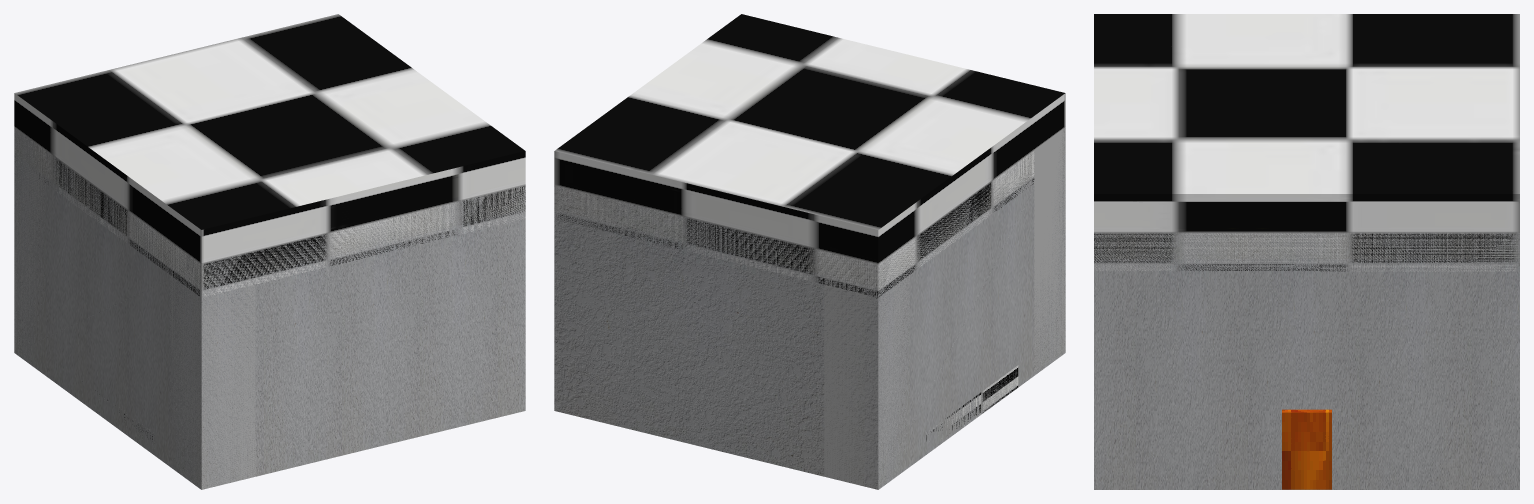
File: bomb-omb.obj
3 views of the same model, side by side, from view 1: azimuth 30°, elevation 25°; view 2: azimuth 150°, elevation 25°; view 3: azimuth 270°, elevation 25° (orthographic). The views are drawn at different scales.
Parts seen in each view (by area): view 1: Wall, Ceil, Marble_Column_Left, Marble_Column_Right; view 2: Wall, Ceil, Marble_Column_Right, Marble_Column_Left, Stage; view 3: Wall, Ceil, Door.
Part boxes in pixels (left/top/right/bottom): Wall: left=14, top=127, right=525, bottom=489; Ceil: left=14, top=14, right=525, bottom=297; Marble_Column_Left: left=170, top=247, right=255, bottom=489; Marble_Column_Right: left=14, top=127, right=45, bottom=361; Wall: left=554, top=127, right=1065, bottom=489; Ceil: left=554, top=14, right=1065, bottom=297; Marble_Column_Right: left=824, top=247, right=909, bottom=489; Marble_Column_Left: left=1034, top=128, right=1065, bottom=374; Stage: left=926, top=365, right=1018, bottom=440; Wall: left=1094, top=232, right=1519, bottom=489; Ceil: left=1094, top=14, right=1519, bottom=271; Door: left=1282, top=409, right=1331, bottom=489.
Size of the model in its own units: 6.1 by 4.6 by 6.
